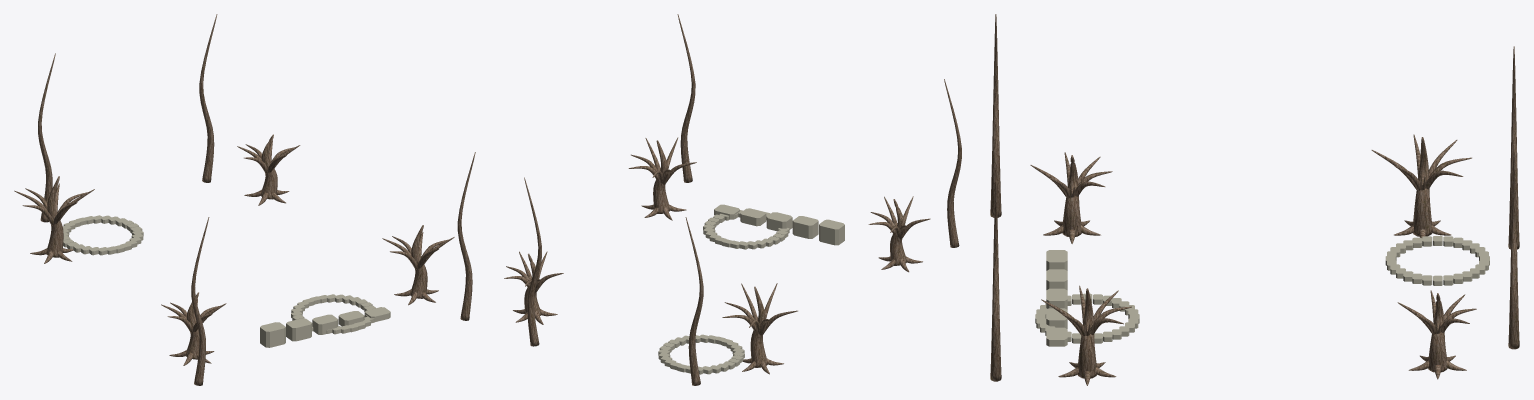
File: R2_Structure.fbx
The picture shows the model from 3 angles, left to right: view 1: azimuth 30°, elevation 25°; view 2: azimuth 150°, elevation 25°; view 3: azimuth 270°, elevation 25°; orthographic projection. The views are drawn at different scales.
Parts seen in each view (by area): view 1: R2_Structure; view 2: R2_Structure; view 3: R2_Structure.
Part boxes in pixels (x1,y1,x2,y2): R2_Structure: [14, 14, 475, 385]; R2_Structure: [504, 14, 961, 385]; R2_Structure: [990, 14, 1519, 385].
Size of the model in its own units: 28.35 by 15.21 by 34.75.
2 materials, 1 textured.
